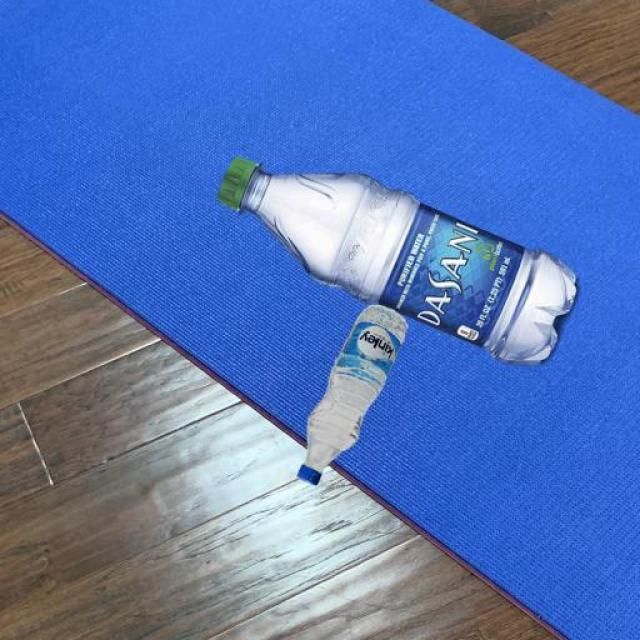plastic: (220, 160, 578, 481)
